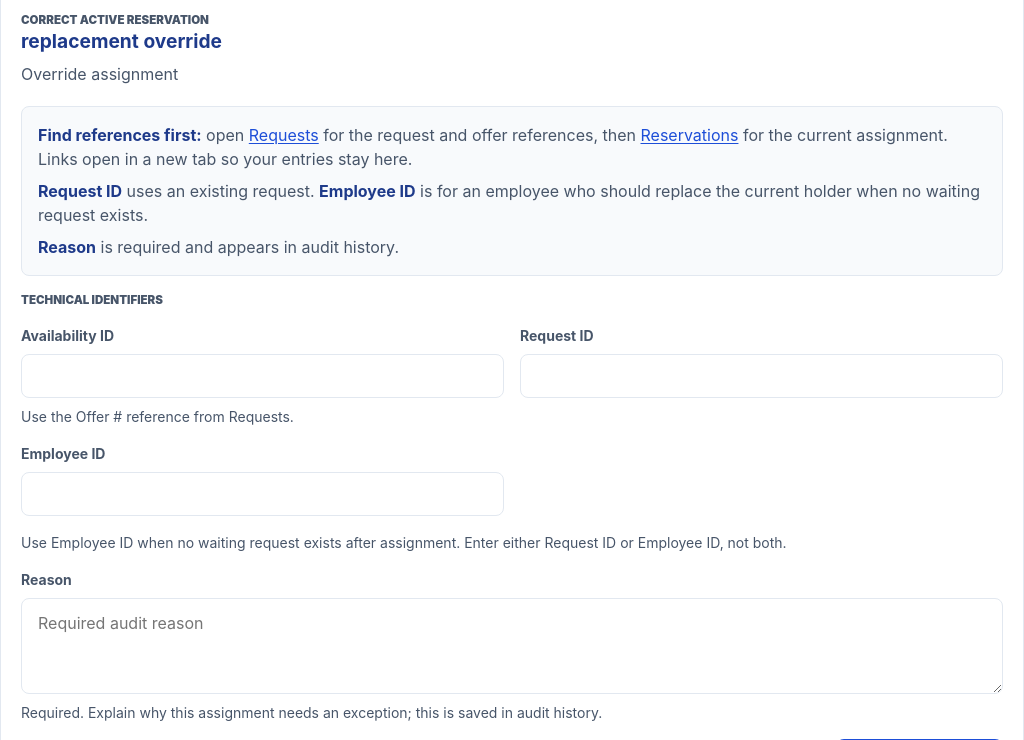
Test case: AdminOverrideForm › requires a replacement selector
The width and height of the screenshot is (1024, 740).
Type "4" into the number field named "replacement-availability-id". click: (262, 376)
box: [21,354,504,398]
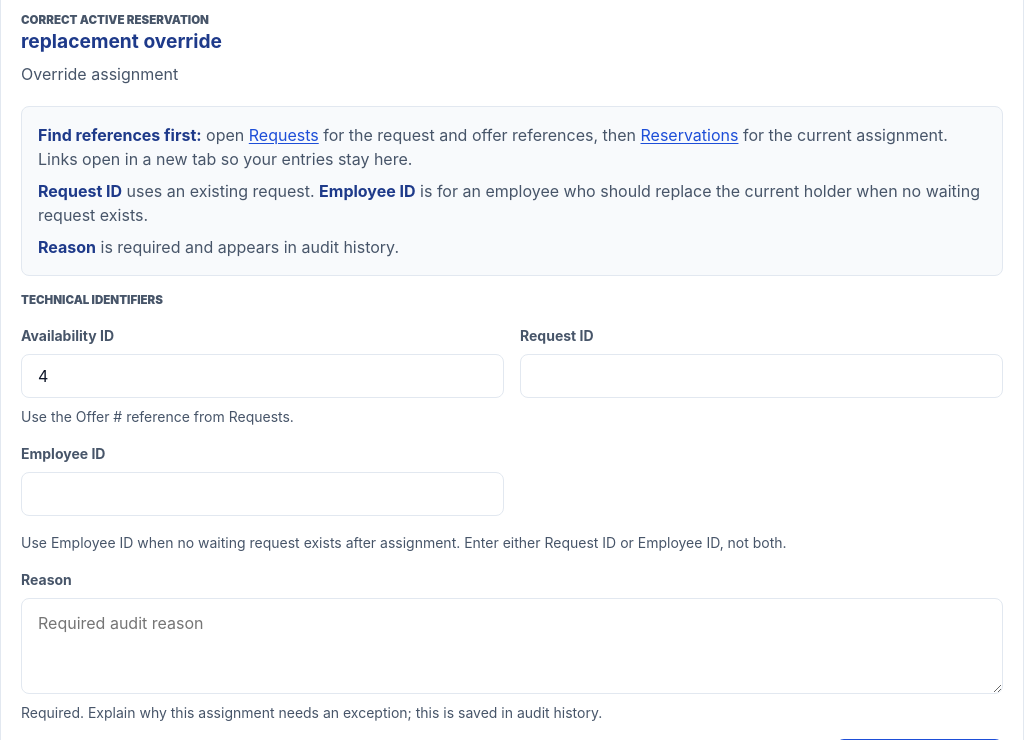
Type "Replacement reason" into the text box named "replacement-reason". click: (512, 646)
box: [21,598,1003,694]
(page scrolled)
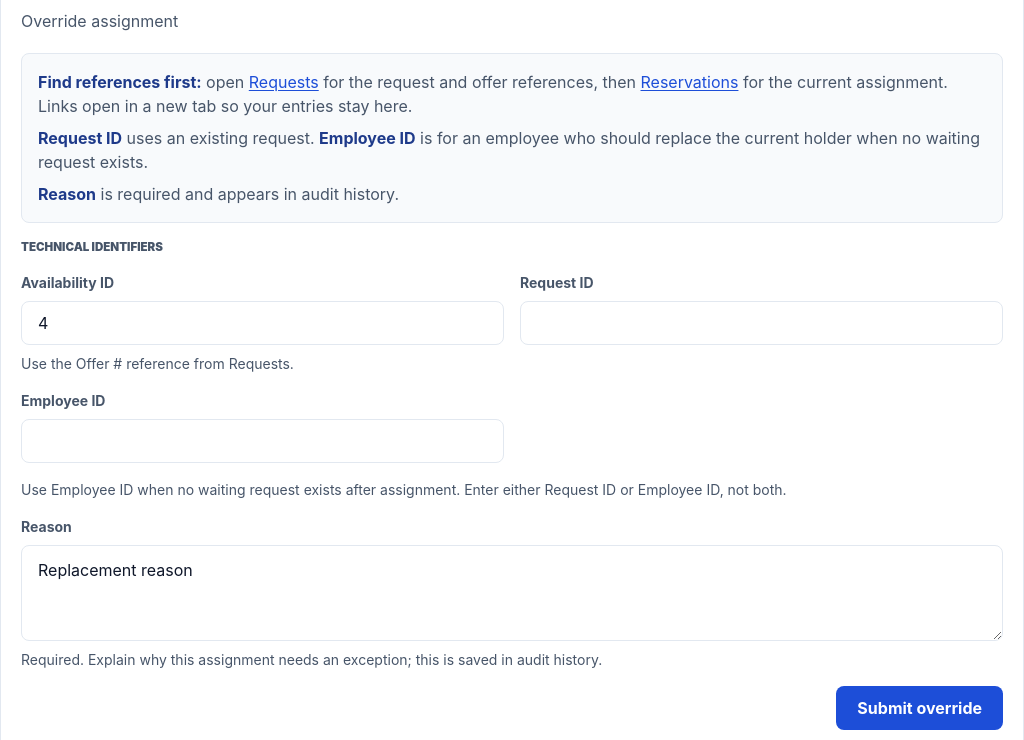
Submit the form
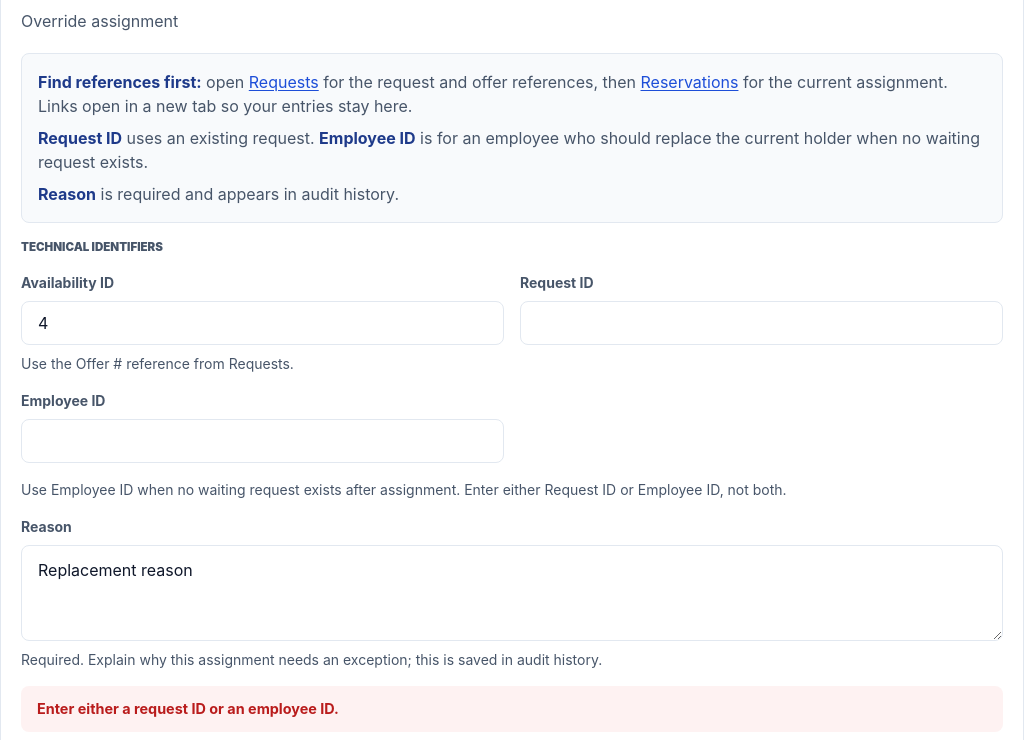
Expected: the text "Enter either a request ID or an employee ID." is shown, [21,686,1003,732]
